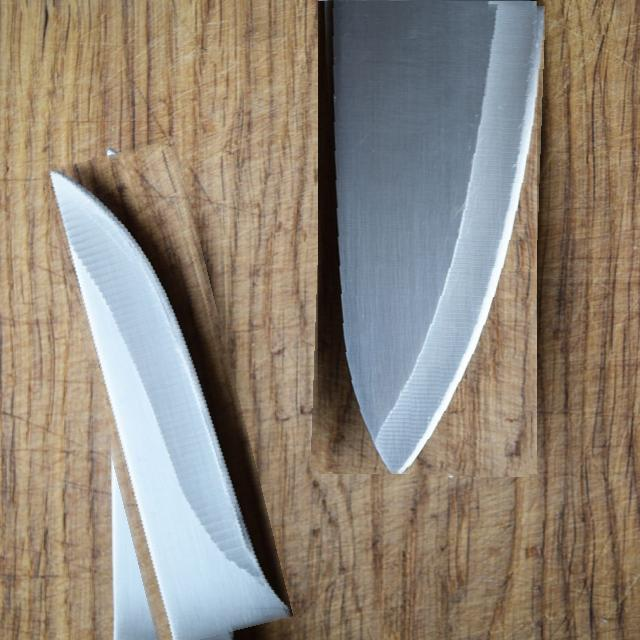knife: (313, 0, 541, 475), (70, 143, 265, 640)
